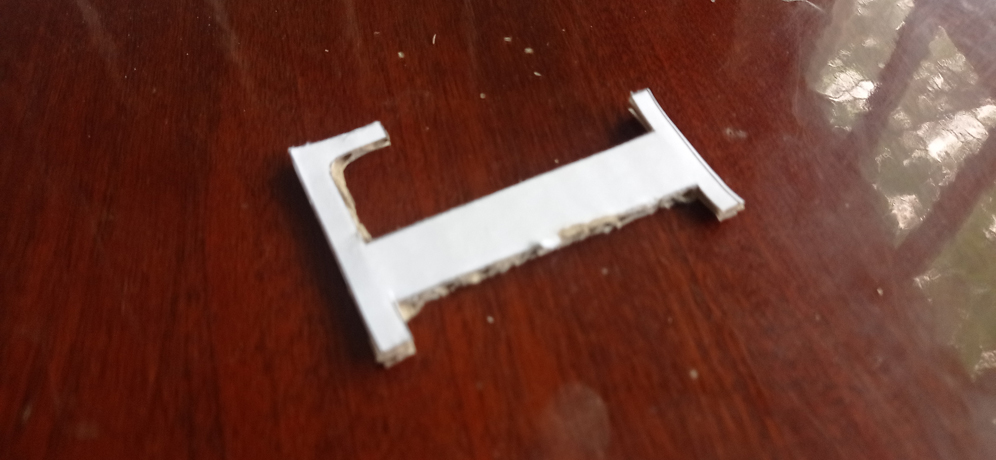g: (287, 88, 746, 371)
